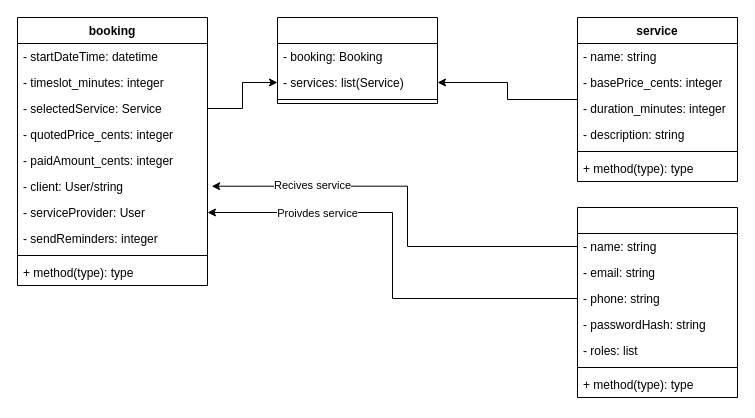
This 755x418 diagram has some shape labels left out. Here are the shapes that lost their labels. From the top down, the box of each, then its label:
(276, 16, 438, 104): availableService
(576, 206, 738, 398): user
